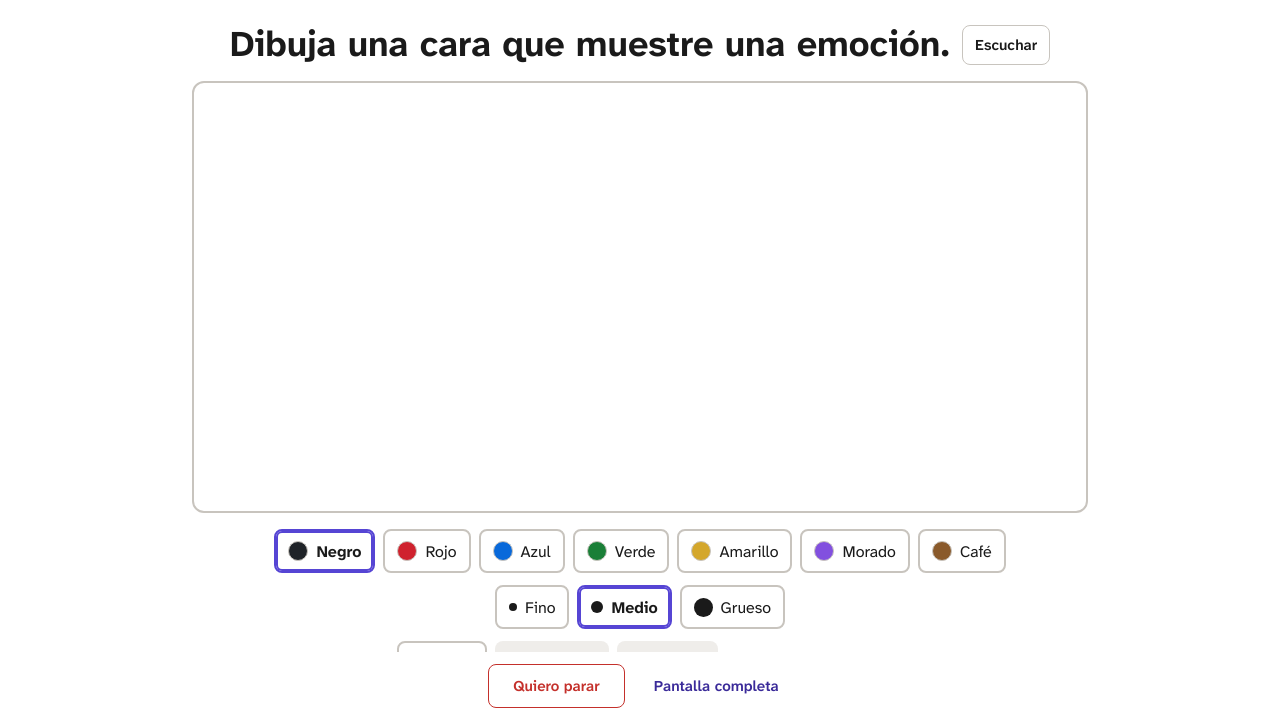
el dibujo en la pantalla de la persona › con un servidor anterior que aún envía opciones, se elige la emoción
Press the mouse on the picture named "Lienzo" at [640, 297], box [192,81,1088,513]
(page scrolled)
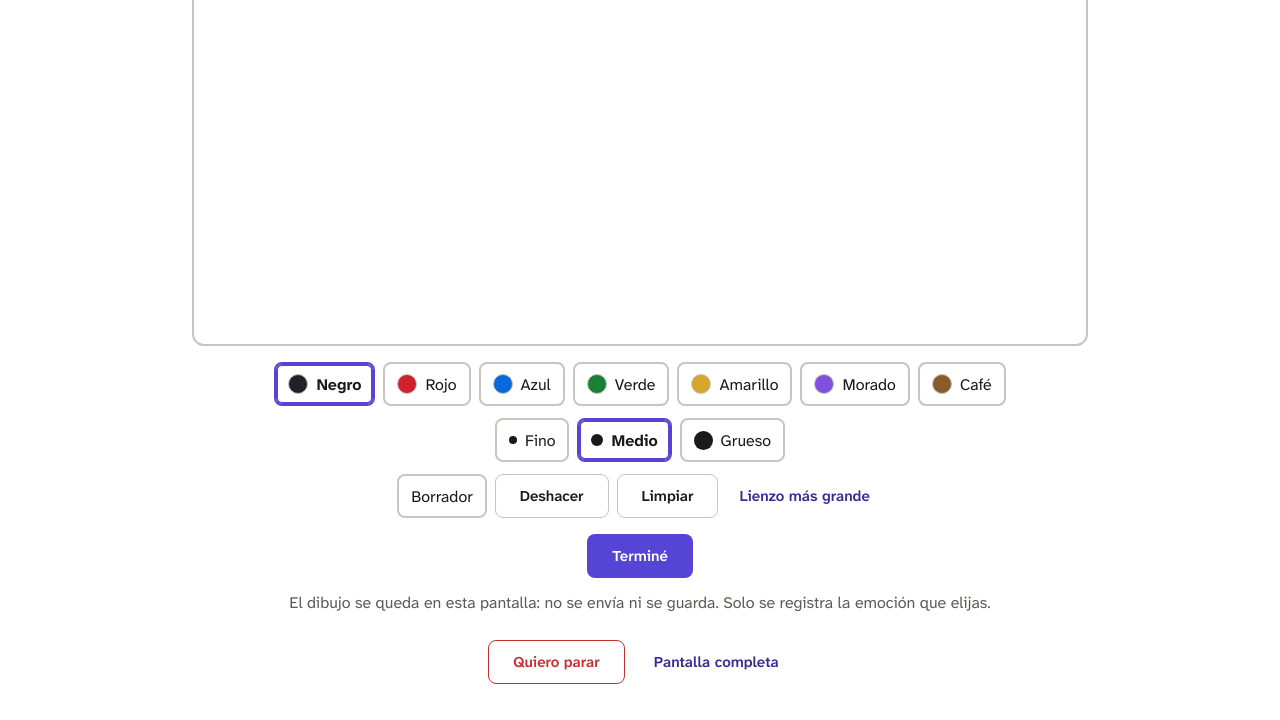
Click the button "Terminé" at [640, 556], box [587,534,693,578]
(page scrolled)
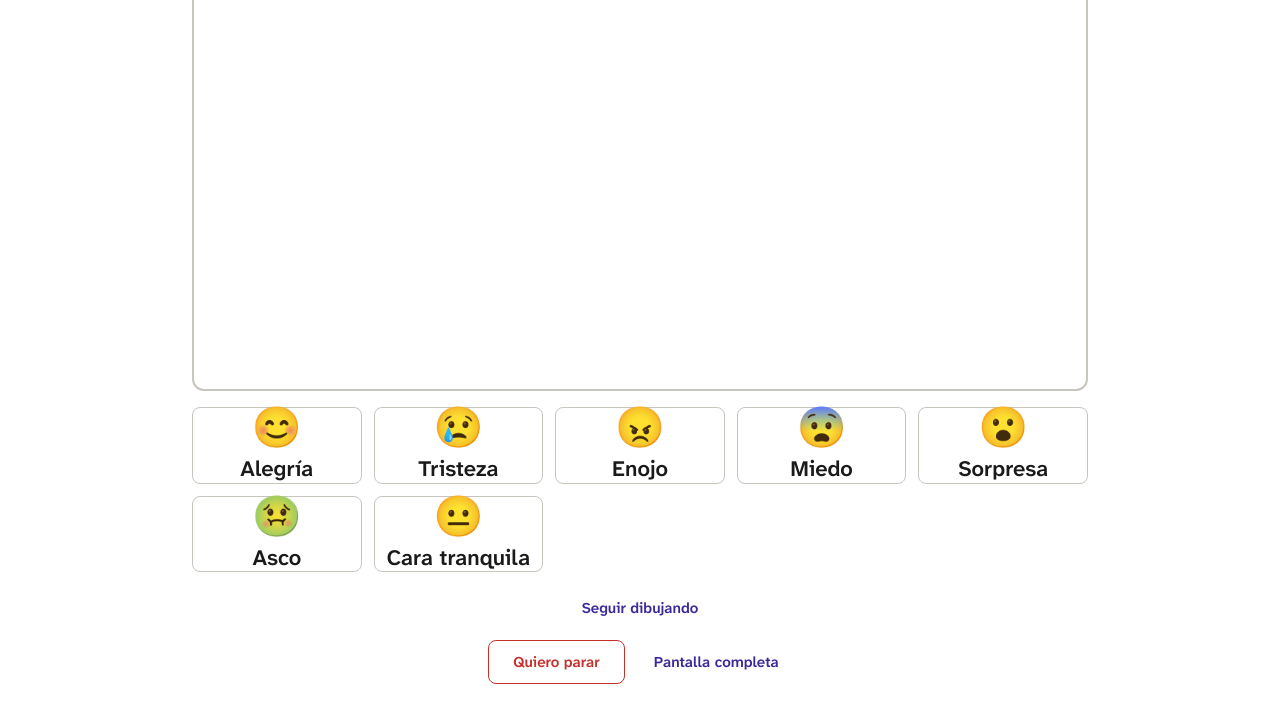
Click the button "😊 Alegría" at [277, 446], box [192,407,362,484]
(page scrolled)
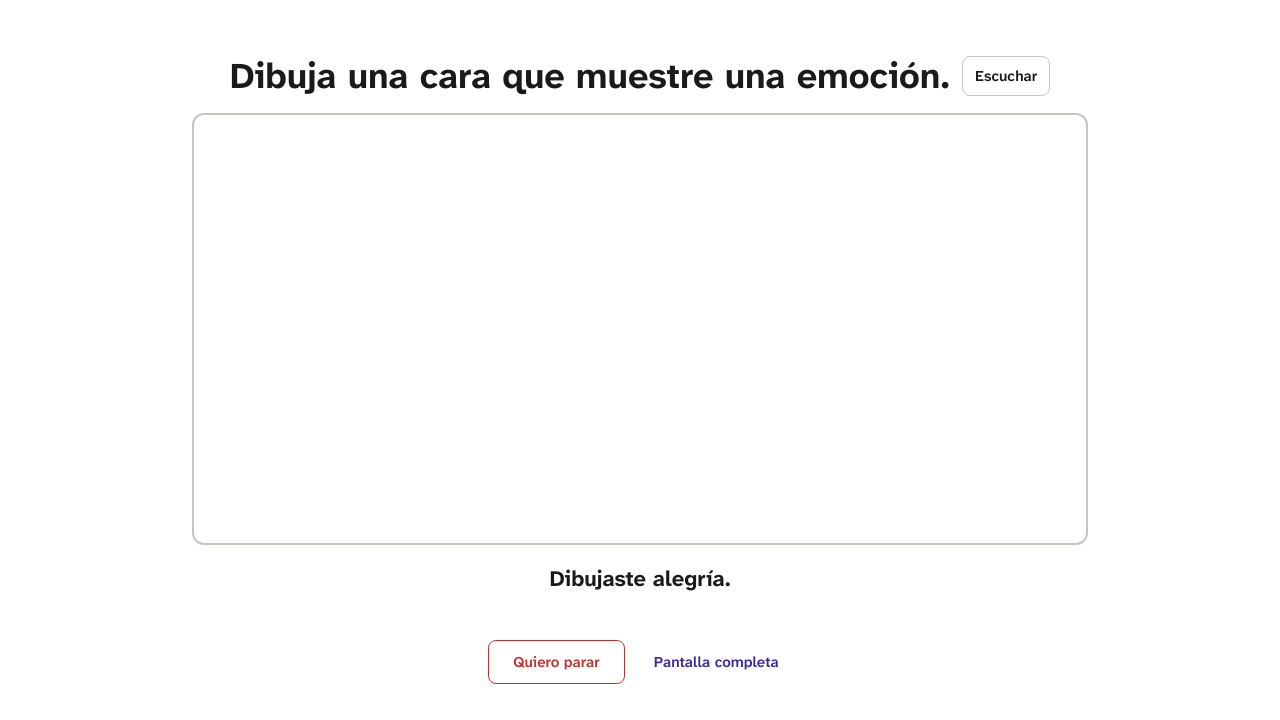
Now the text "Dibujaste alegría." is shown, box [549,561,731,596]
